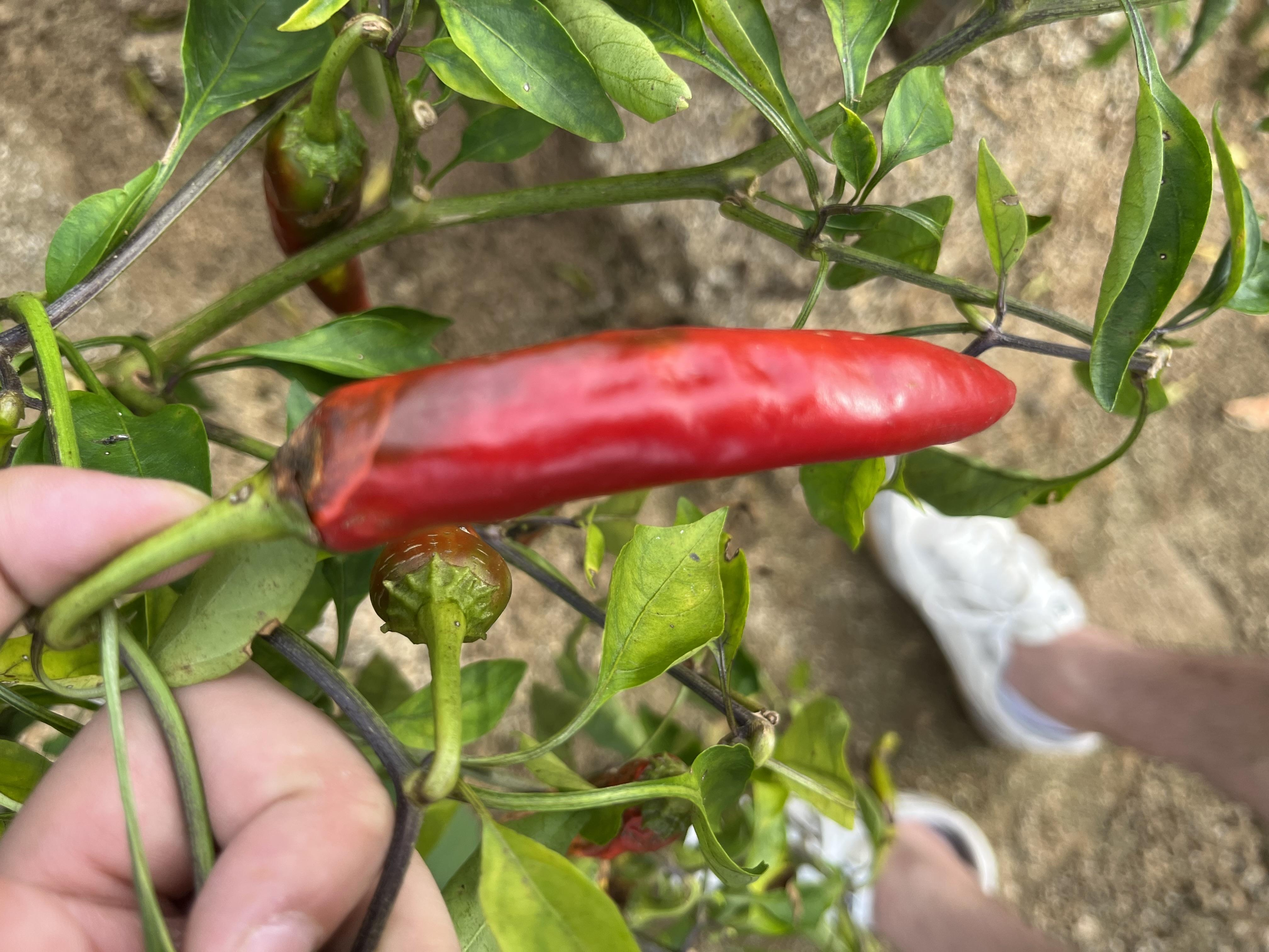Buah Cabai Sehat: (507, 175, 849, 773)
